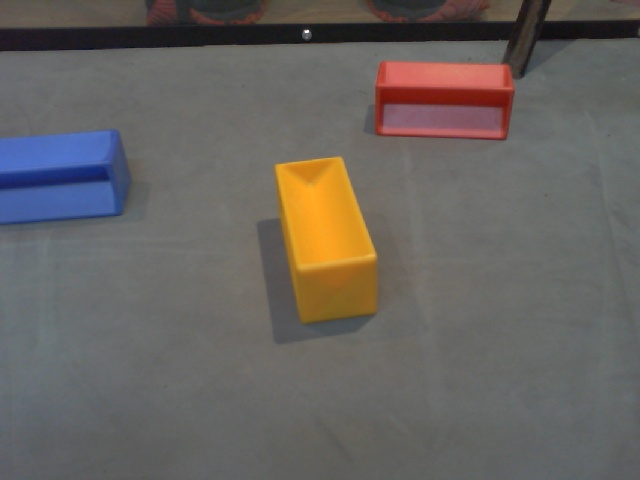BlueSample: (1, 126, 131, 226)
RedSample: (370, 59, 516, 143)
YellowSample: (271, 155, 379, 324)
